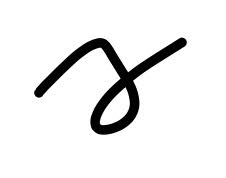t: (27, 22, 120, 108)
